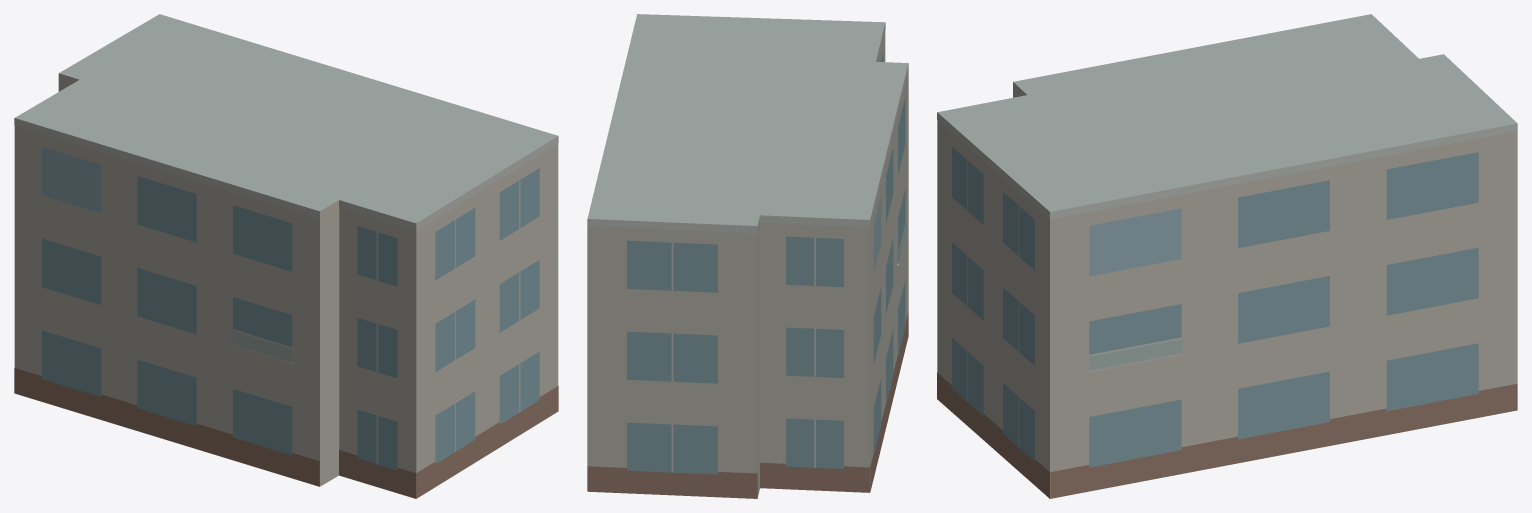
File: survey-upis-32708307.glb
The picture shows the model from 3 angles, left to right: view 1: azimuth 30°, elevation 25°; view 2: azimuth 150°, elevation 25°; view 3: azimuth 270°, elevation 25°; orthographic projection. The views are drawn at different scales.
Parts seen in each view (by area): view 1: survey-upis-32708307.tmp; view 2: survey-upis-32708307.tmp; view 3: survey-upis-32708307.tmp.
Part boxes in pixels (x1,y1,x2,y2): survey-upis-32708307.tmp: [14, 14, 558, 498]; survey-upis-32708307.tmp: [587, 14, 908, 498]; survey-upis-32708307.tmp: [937, 14, 1517, 498].
Size of the model in its own units: 13.55 by 9.15 by 16.79.
